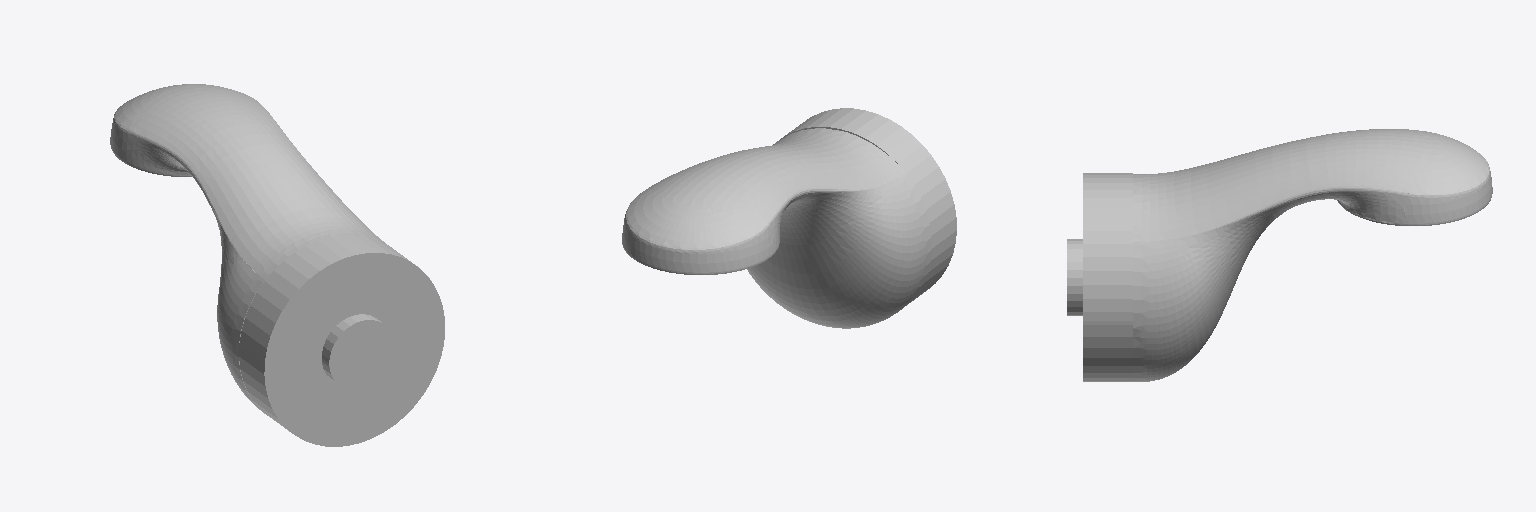
Rendered from lbr_iiwa_14_r820_part_6.obj.
The picture shows the model from 3 angles: view 1: azimuth 30°, elevation 25°; view 2: azimuth 150°, elevation 25°; view 3: azimuth 270°, elevation 25°; orthographic projection.
Parts seen in each view (by area): view 1: mesh 1 LBR IIWA 14 R820.sldasm-Part-6; view 2: mesh 1 LBR IIWA 14 R820.sldasm-Part-6; view 3: mesh 1 LBR IIWA 14 R820.sldasm-Part-6.
Part boxes in pixels (x1,y1,x2,y2): mesh 1 LBR IIWA 14 R820.sldasm-Part-6: (110, 84, 444, 446); mesh 1 LBR IIWA 14 R820.sldasm-Part-6: (622, 108, 956, 328); mesh 1 LBR IIWA 14 R820.sldasm-Part-6: (1067, 129, 1492, 381).
Size of the model in its own units: 0.1362 by 0.1671 by 0.277.